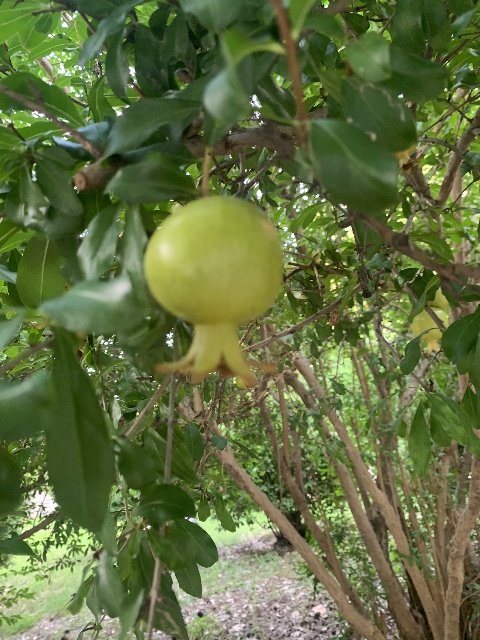mid-growth: (142, 196, 285, 387), (411, 306, 449, 355)
